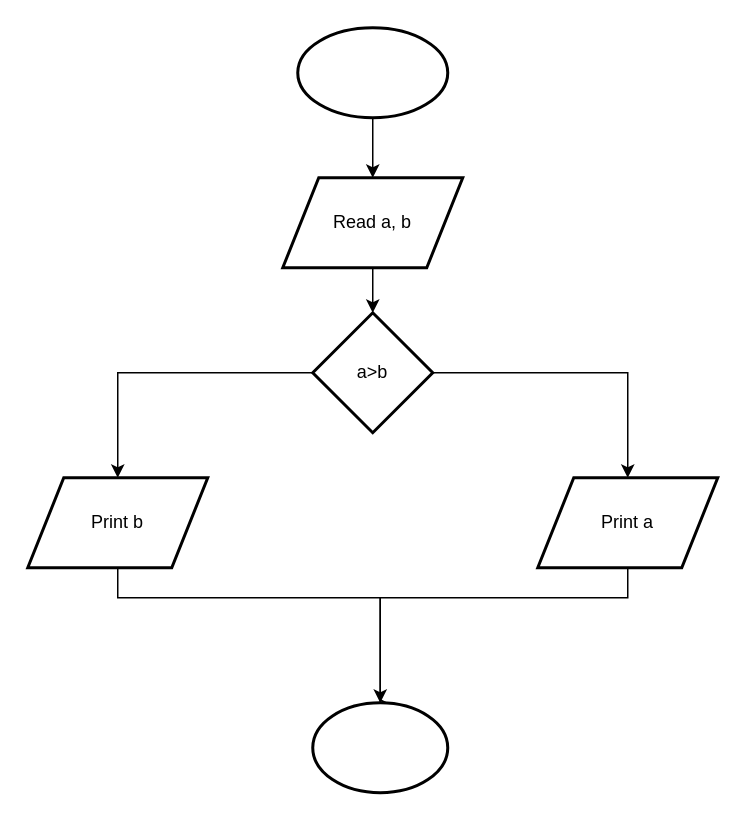
Some shapes in this 744 by 819 pixel diagram are drawn without their labels. The box of each missing label's shape, as (x1, y1, x2, y2) in pixels:
Start: (296, 26, 448, 118)
Stop: (310, 700, 448, 794)
